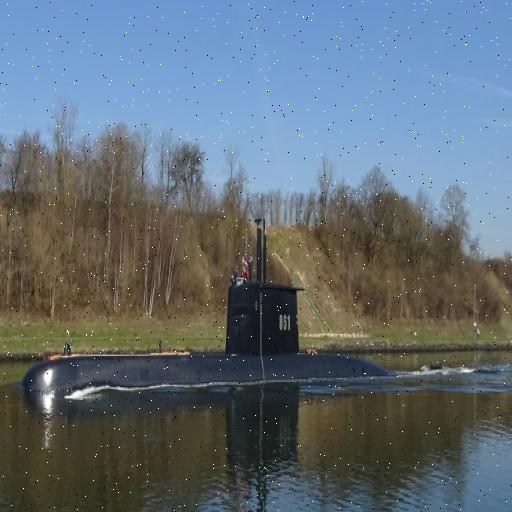submarine: (24, 210, 492, 398)
